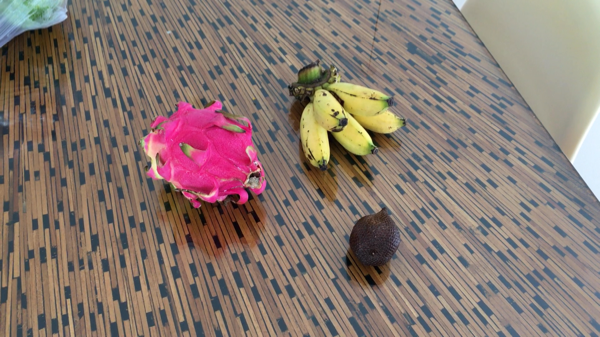banana: (293, 59, 406, 171)
dragon fruit: (143, 97, 268, 210)
snake fruit: (351, 208, 403, 269)
